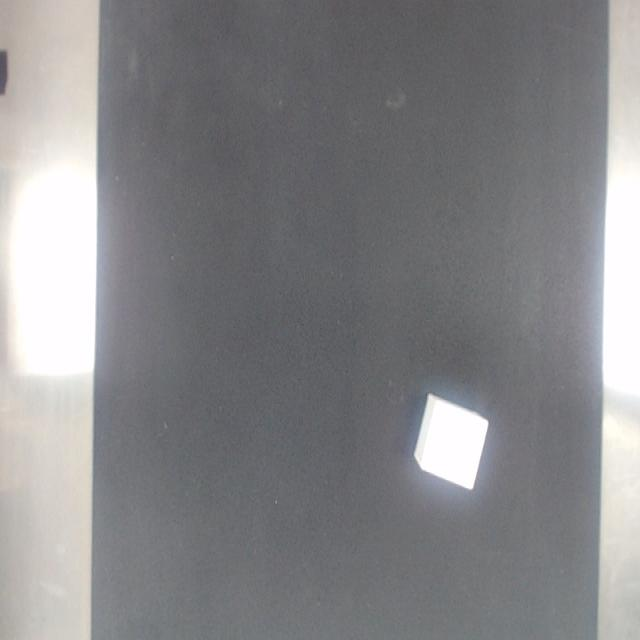Blanco: (414, 395, 488, 489)
